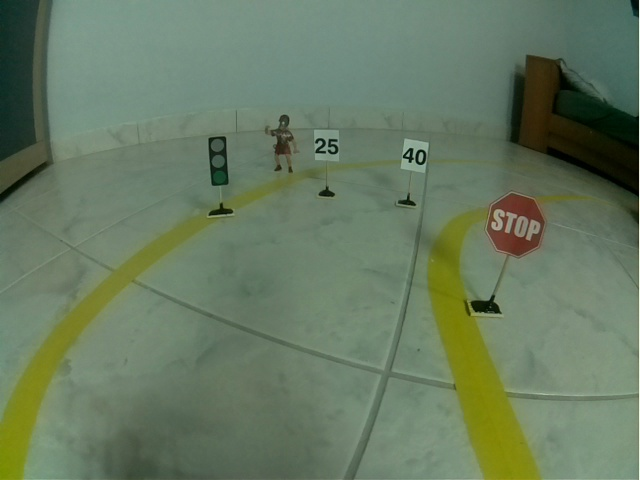Green Traffic Light: (206, 136, 229, 187)
Person: (264, 114, 301, 175)
Speed Limit 25: (313, 128, 340, 163)
Speed Limit 40: (401, 139, 430, 175)
Stop: (484, 190, 547, 260)
